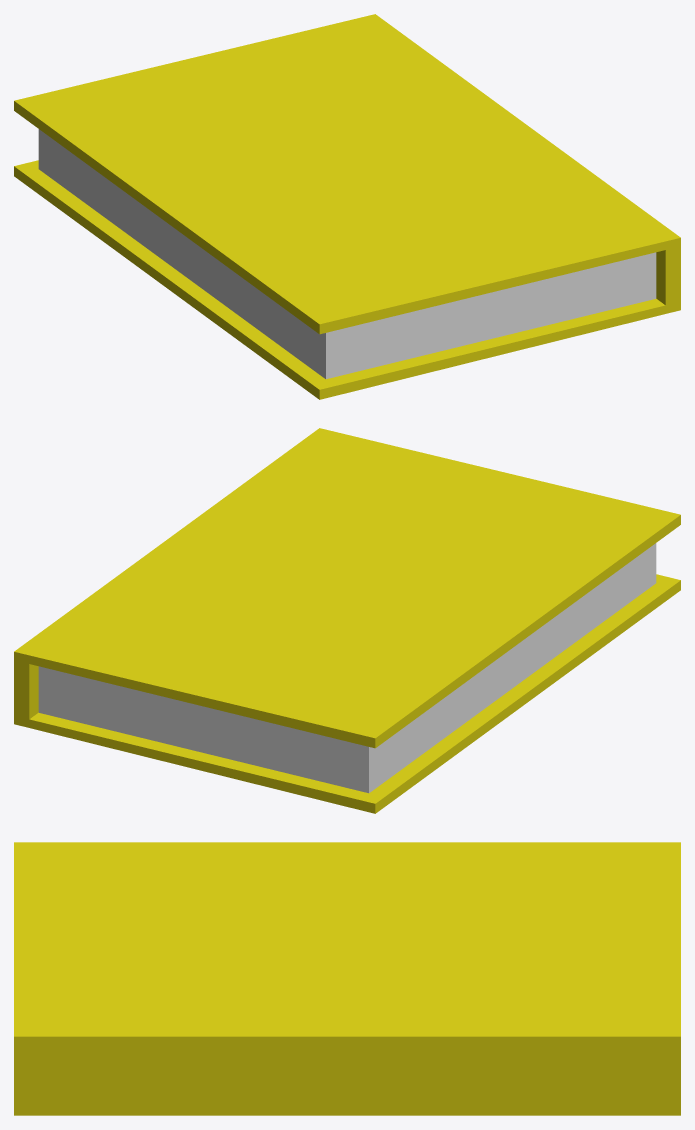
The model's file is Livro Amarelo.fbx.
3 renders of one model, top to bottom at view 1: azimuth 30°, elevation 25°; view 2: azimuth 150°, elevation 25°; view 3: azimuth 270°, elevation 25°, orthographic. The views are drawn at different scales.
Visible parts, largest first — view 1: Cubo.006; view 2: Cubo.006; view 3: Cubo.006.
Part boxes in pixels (x1,y1,x2,y2): Cubo.006: (14, 14, 680, 399); Cubo.006: (14, 428, 680, 813); Cubo.006: (14, 842, 680, 1115).
Size of the model in its own units: 34.05 by 6.8 by 49.87.
